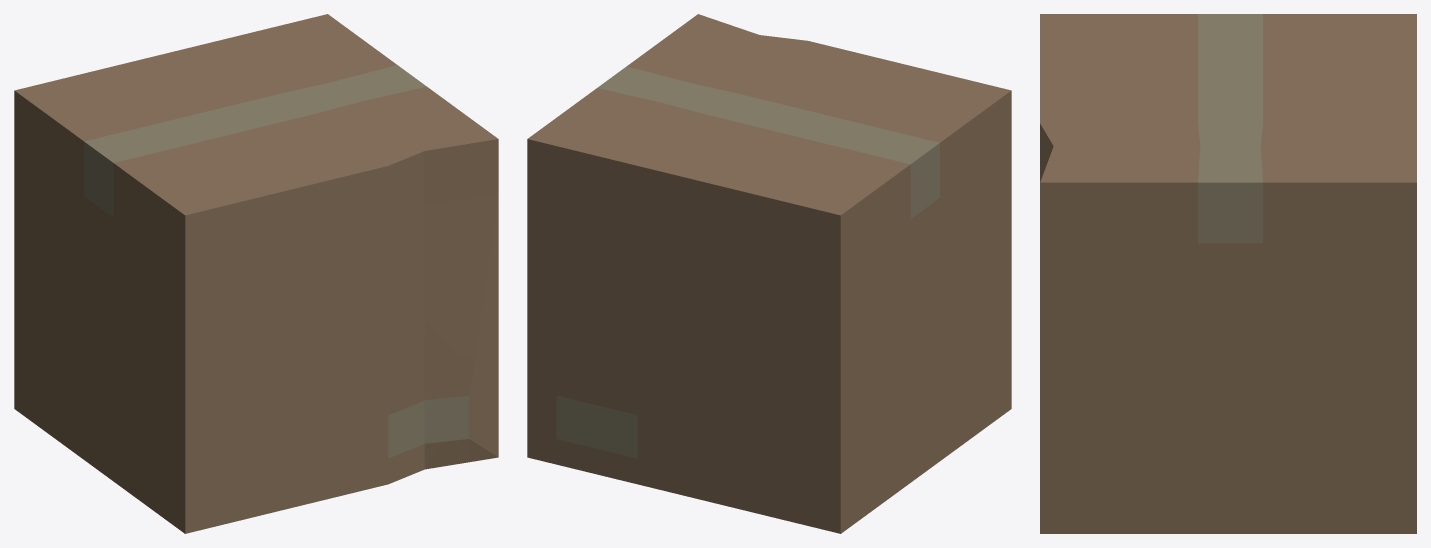
Rendered from cardboard_boxes.glb.
3 views of the same model, side by side, from view 1: azimuth 30°, elevation 25°; view 2: azimuth 150°, elevation 25°; view 3: azimuth 270°, elevation 25° (orthographic). The views are drawn at different scales.
Parts seen in each view (by area): view 1: prop_cardboard_boxes; view 2: prop_cardboard_boxes; view 3: prop_cardboard_boxes.
Part boxes in pixels (box(x1,y1,x2,y2)): prop_cardboard_boxes: box(14, 14, 498, 533); prop_cardboard_boxes: box(527, 14, 1011, 533); prop_cardboard_boxes: box(1040, 14, 1416, 533).
Bounding box in the file's own units: 1 × 0.9711 × 0.9438.
